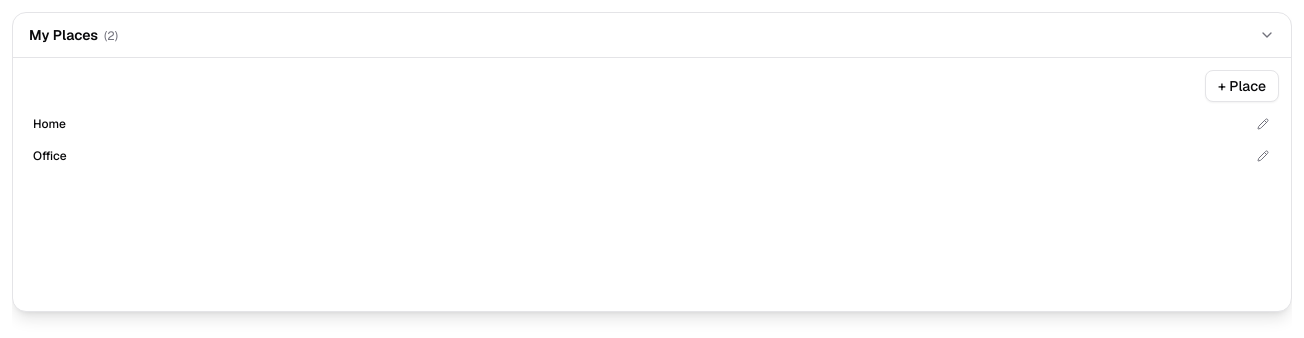
Places › clicking '+ Place' shows creation options
Click the button "+ Place": (1242, 86) [1205, 70, 1279, 102]
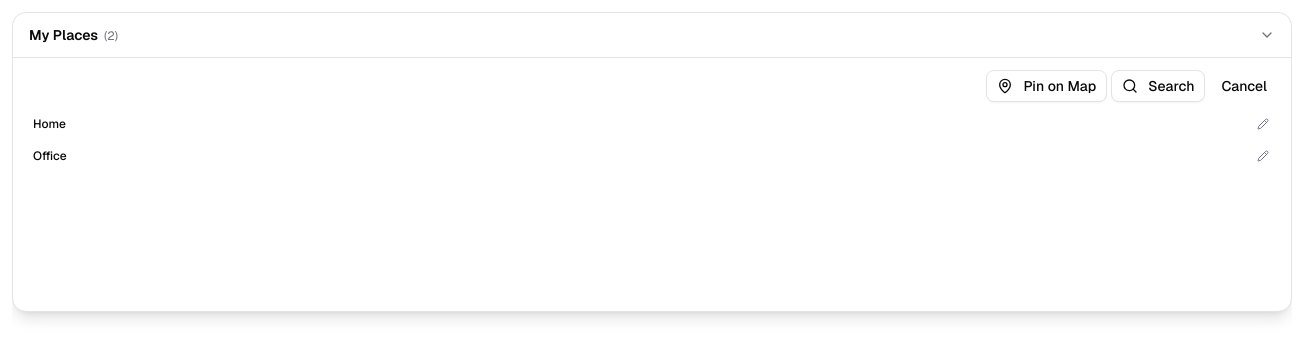
Result: the button "Pin on Map" is shown at [986, 70, 1107, 102]
Result: the button "Search" is shown at [1111, 70, 1206, 102]
Result: the button "Cancel" is shown at [1209, 70, 1279, 102]
